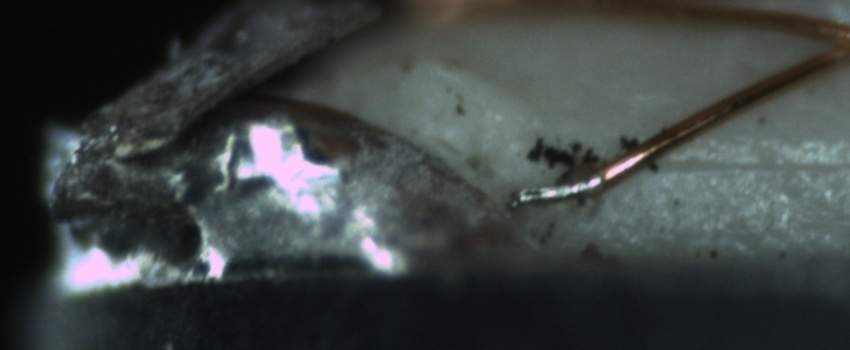DL: (666, 131, 849, 198)
TS: (508, 172, 596, 208)
